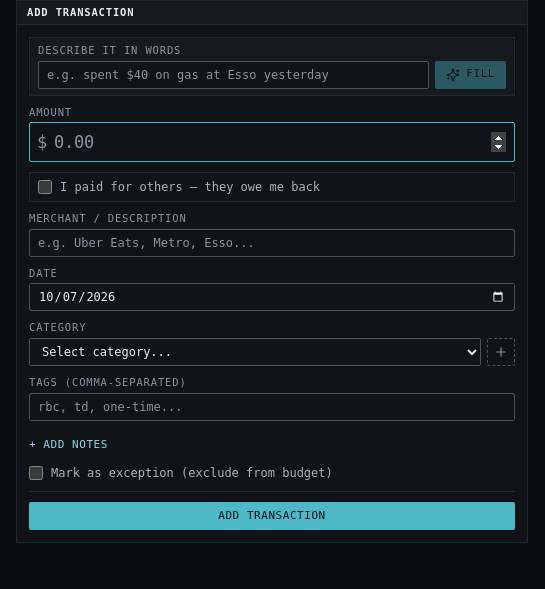
categorisation tier 2 — the local classifier › rejects a confident "products" and falls through to the AI
The width and height of the screenshot is (545, 589).
Type "Blorptronix" into the dropdown labelled "Merchant / Description" at (272, 243), box [29,229,515,257]
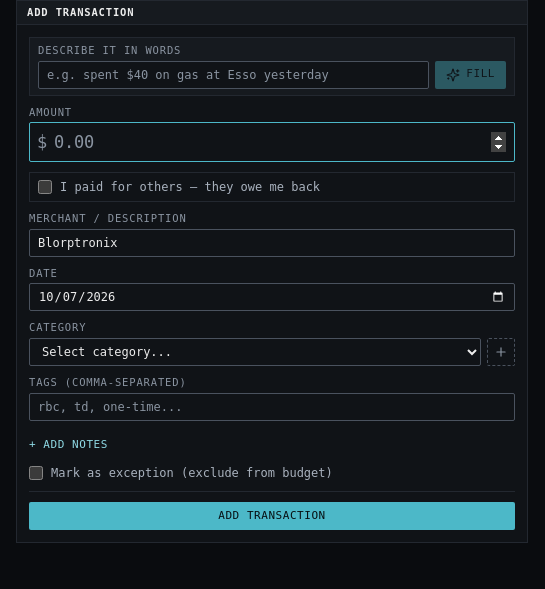
Leave the dropdown labelled "Merchant / Description", box [29,229,515,257]
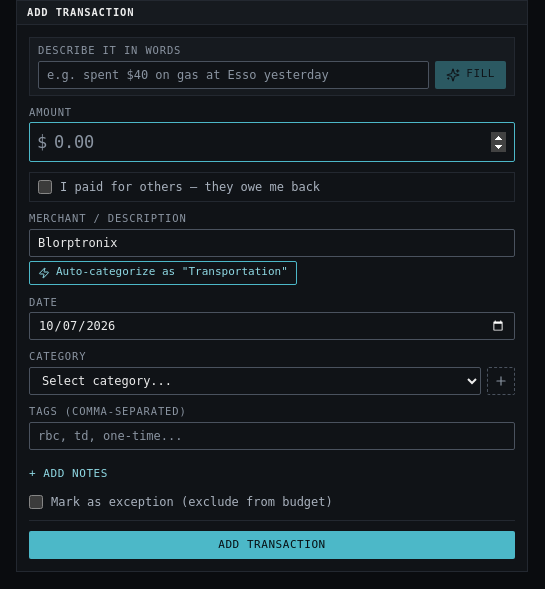
Expected: the button "Auto-categorize as \"Transportation\"" reads "Auto-categorize as \"Transportation\"", [29,261,297,285]
